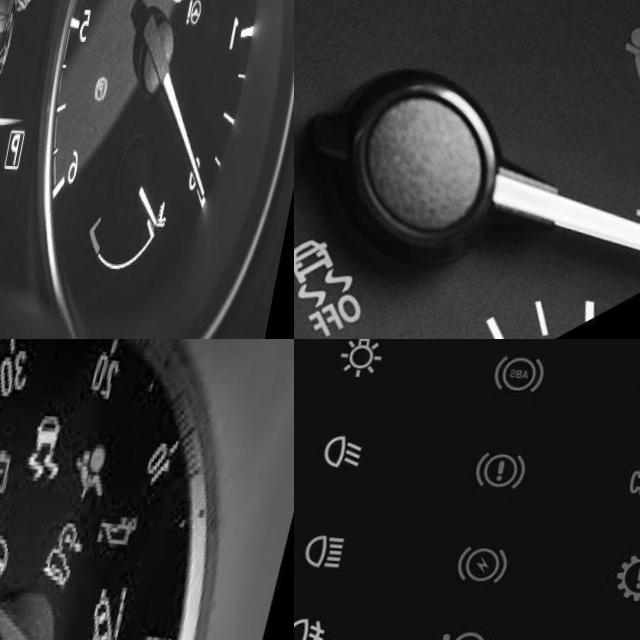Electronic Power Steering: (0, 529, 26, 582), (451, 622, 511, 640), (192, 0, 216, 20)
